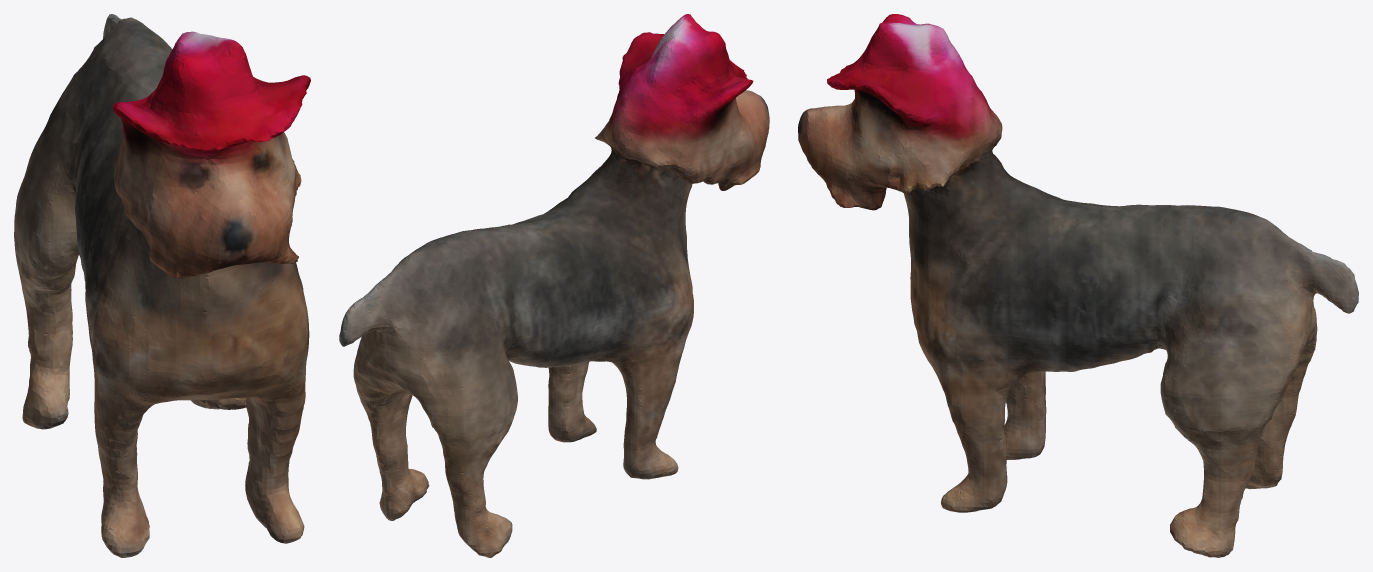
File: ours-conv.glb
The picture shows the model from 3 angles, left to right: view 1: azimuth 30°, elevation 25°; view 2: azimuth 150°, elevation 25°; view 3: azimuth 270°, elevation 25°; orthographic projection. The views are drawn at different scales.
Parts seen in each view (by area): view 1: ours.obj; view 2: ours.obj; view 3: ours.obj.
Part boxes in pixels (<box>): ours.obj: <box>14,14,310,557</box>; ours.obj: <box>339,14,769,557</box>; ours.obj: <box>798,14,1358,557</box>.
Bounding box in the file's own units: 0.9968 × 1.72 × 1.9.
